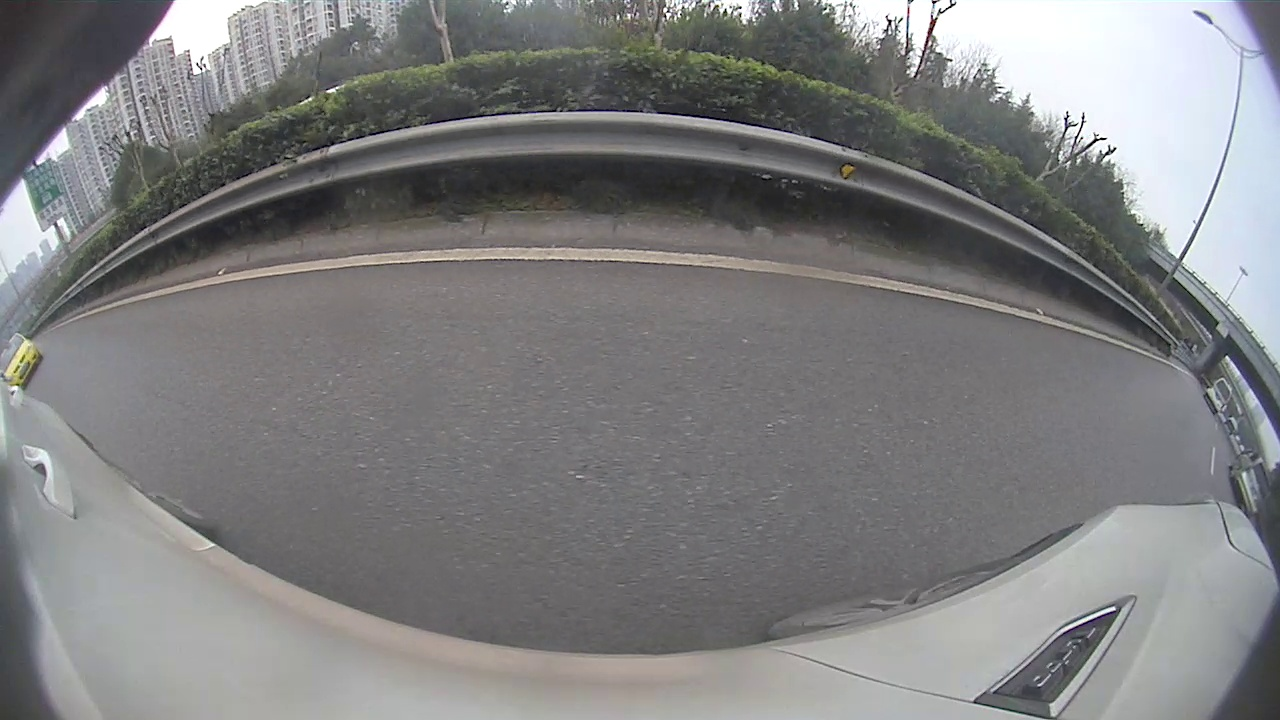car: (1231, 452, 1270, 518), (1, 334, 43, 392), (1207, 378, 1231, 415)
